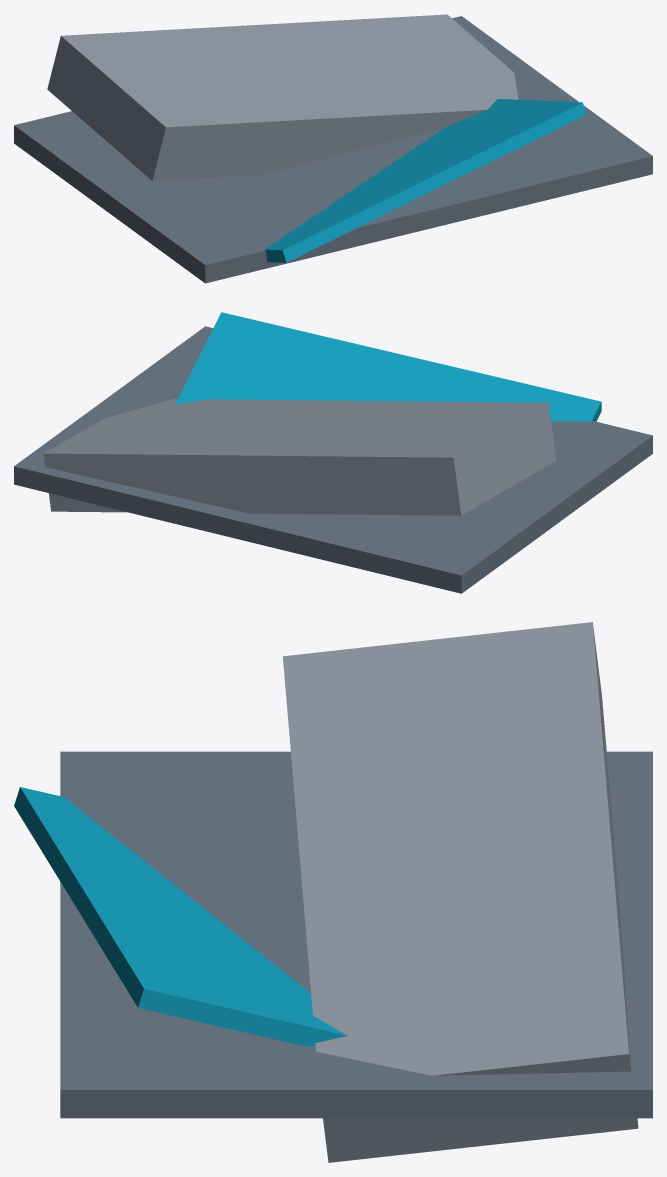
File: car-dealership-wreck.glb
3 renders of one model, top to bottom at view 1: azimuth 30°, elevation 25°; view 2: azimuth 150°, elevation 25°; view 3: azimuth 270°, elevation 25°, orthographic. The views are drawn at different scales.
Visible parts, largest first — view 1: Root; view 2: Root; view 3: Root.
Boxes of the visible parts, left/top/right/bottom form: Root: left=14, top=14, right=652, bottom=283; Root: left=14, top=312, right=652, bottom=593; Root: left=14, top=622, right=652, bottom=1162.
Size of the model in its own units: 15.4 by 5.18 by 12.29.
